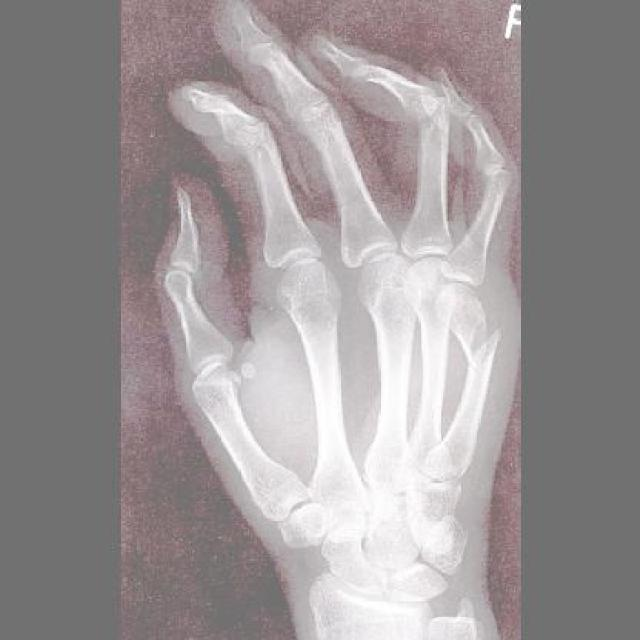Fracture: (456, 314, 502, 371)
